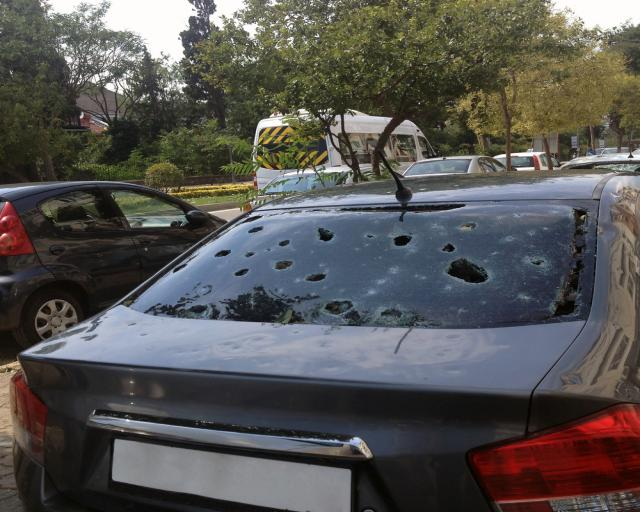dent: (316, 361, 352, 375), (431, 347, 463, 361), (215, 340, 243, 355), (174, 345, 207, 357), (246, 334, 273, 346), (443, 365, 468, 375), (443, 333, 464, 342), (125, 321, 142, 327), (138, 332, 152, 339)
glass shatter: (128, 199, 600, 329)
